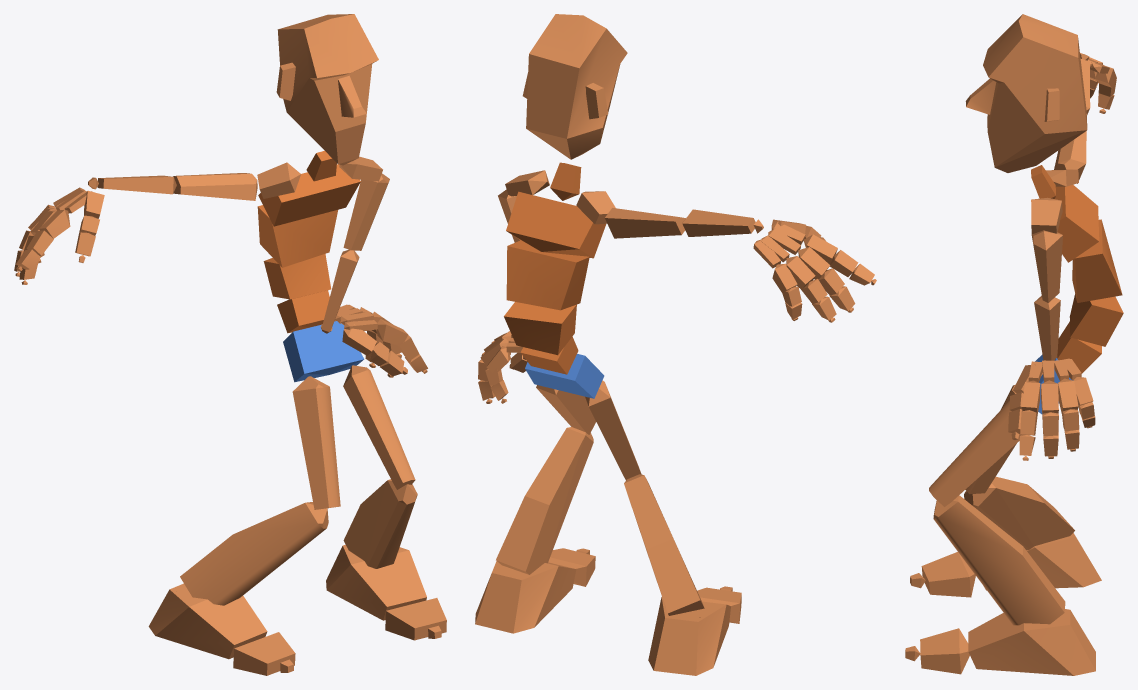
3 views of the same model, side by side, from view 1: azimuth 30°, elevation 25°; view 2: azimuth 150°, elevation 25°; view 3: azimuth 270°, elevation 25° (orthographic). The views are drawn at different scales.
Visible parts, largest first — view 1: BOPED_Head, BOPED_R_leg, BOPED_R_foot, BOPED_R_foot01, BOPED_R_legup, BOPED_L_leg, BOPED_L_legup, Bone01, Bone04, Bone05, Bone03, BOPED_R_arm_upper (+9 smaller); view 2: BOPED_Head, BOPED_L_leg, BOPED_R_foot01, BOPED_R_foot, Bone04, BOPED_R_leg, Bone05, Bone03, BOPED_R_legup, BOPED_R_arm_upper, Bone01, BOPED_R_arm_fore (+7 smaller); view 3: BOPED_Head, BOPED_L_leg, BOPED_R_foot01, BOPED_R_leg, BOPED_L_legup, BOPED_R_foot, Bone05, Bone04, Bone03, BOPED_R_foot_toe01, BOPED_R_foot_toe04, BOPED_L_arm_upper (+15 smaller).
Boxes of the visible parts, <box> form: BOPED_Head: <box>276,14,378,165</box>; BOPED_R_leg: <box>180,502,328,605</box>; BOPED_R_foot: <box>148,583,267,659</box>; BOPED_R_foot01: <box>326,545,426,620</box>; BOPED_R_legup: <box>292,376,340,509</box>; BOPED_L_leg: <box>343,479,417,568</box>; BOPED_L_legup: <box>343,365,415,489</box>; Bone01: <box>283,321,364,382</box>; Bone04: <box>257,205,337,267</box>; Bone05: <box>258,164,360,226</box>; Bone03: <box>263,253,331,299</box>; BOPED_R_arm_upper: <box>173,173,257,200</box>; BOPED_Head: <box>522,14,627,159</box>; BOPED_L_leg: <box>496,427,593,574</box>; BOPED_R_foot01: <box>475,561,576,633</box>; BOPED_R_foot: <box>648,597,730,675</box>; Bone04: <box>506,240,589,310</box>; BOPED_R_leg: <box>624,474,704,615</box>; Bone05: <box>506,191,606,258</box>; Bone03: <box>504,302,576,355</box>; BOPED_R_legup: <box>585,380,641,480</box>; BOPED_R_arm_upper: <box>605,208,685,238</box>; Bone01: <box>525,354,604,398</box>; BOPED_R_arm_fore: <box>682,209,755,236</box>; BOPED_Head: <box>965,14,1087,172</box>; BOPED_L_leg: <box>933,495,1065,625</box>; BOPED_R_foot01: <box>968,609,1095,675</box>; BOPED_R_leg: <box>964,476,1074,549</box>; BOPED_L_legup: <box>929,400,1024,506</box>; BOPED_R_foot: <box>984,533,1101,590</box>; Bone05: <box>1055,185,1099,262</box>; Bone04: <box>1072,219,1122,302</box>; Bone03: <box>1069,294,1123,346</box>; BOPED_R_foot_toe01: <box>921,552,975,597</box>; BOPED_R_foot_toe04: <box>920,628,969,674</box>; BOPED_L_arm_upper: <box>1031,230,1062,302</box>.
Size of the model in its own units: 123 by 175 by 56.5.
